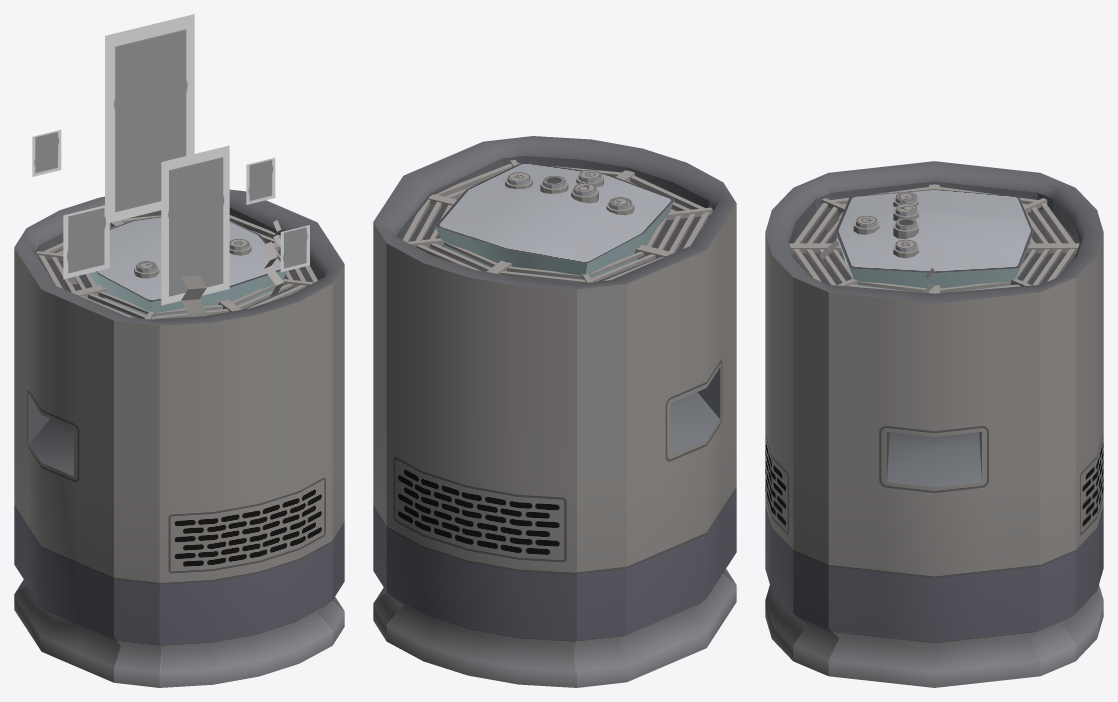
The picture shows the model from 3 angles, left to right: view 1: azimuth 30°, elevation 25°; view 2: azimuth 150°, elevation 25°; view 3: azimuth 270°, elevation 25°; orthographic projection. The views are drawn at different scales.
Visible parts, largest first — view 1: Air_Purifier; view 2: Air_Purifier; view 3: Air_Purifier.
Part boxes in pixels (bbox=[...]): Air_Purifier: bbox=[14, 14, 344, 687]; Air_Purifier: bbox=[373, 136, 736, 687]; Air_Purifier: bbox=[765, 161, 1103, 687].
Size of the model in its own units: 598 by 1149 by 599.
3 materials, 3 textured.
